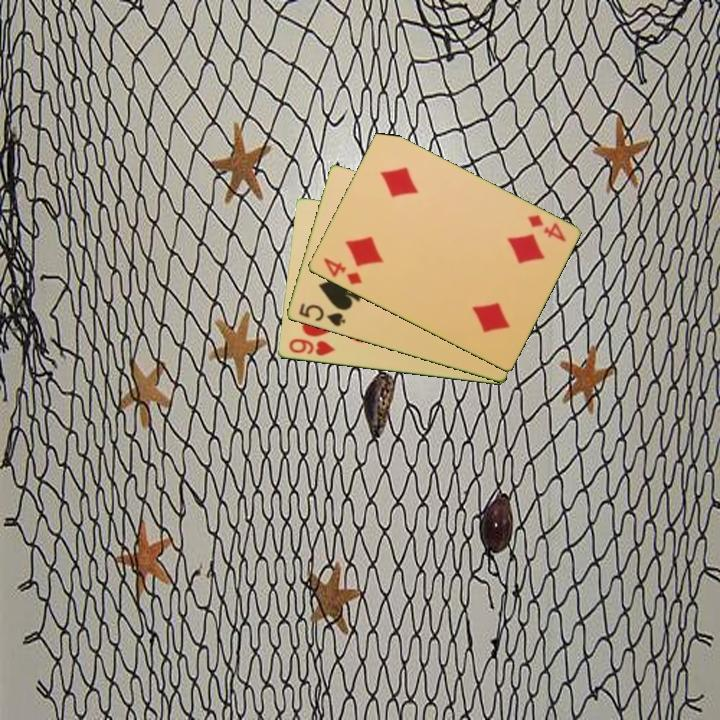4d: (320, 254, 365, 288), (524, 211, 569, 245)
5s: (295, 300, 348, 330)
9h: (285, 335, 337, 359)
